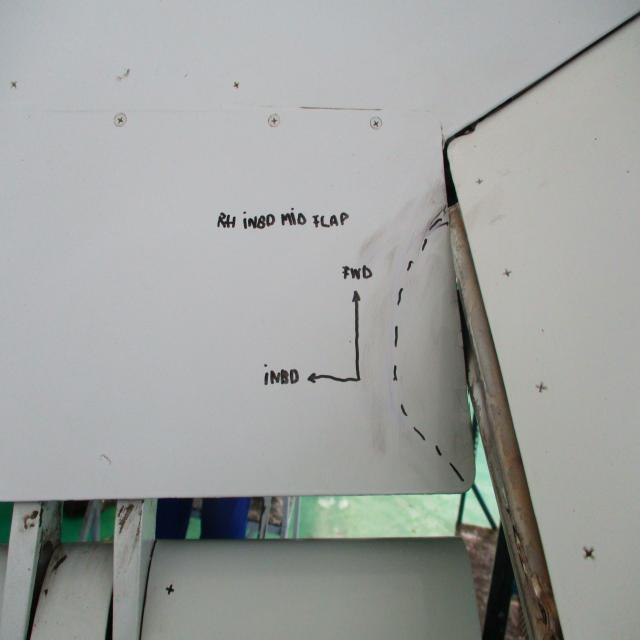crack: (455, 390, 471, 414)
